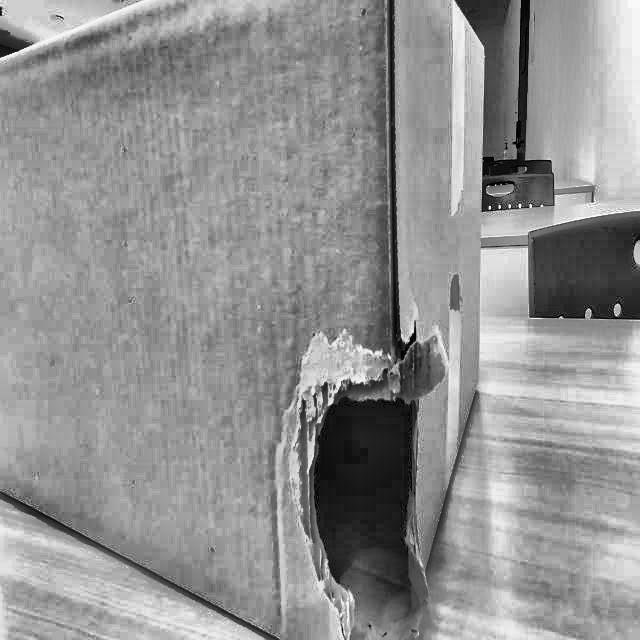box: (0, 0, 485, 639)
hole: (304, 309, 422, 639)
